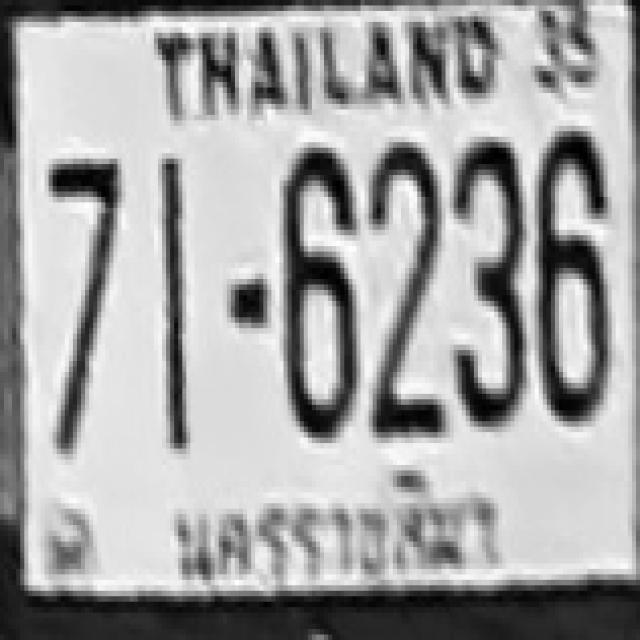1: (160, 156, 188, 418), (158, 156, 186, 407)
2: (366, 140, 439, 408)
3: (450, 134, 522, 424)
6: (534, 128, 608, 418), (280, 142, 352, 438)
7: (45, 153, 122, 449)
NakhonRatchasima: (167, 465, 507, 593)
